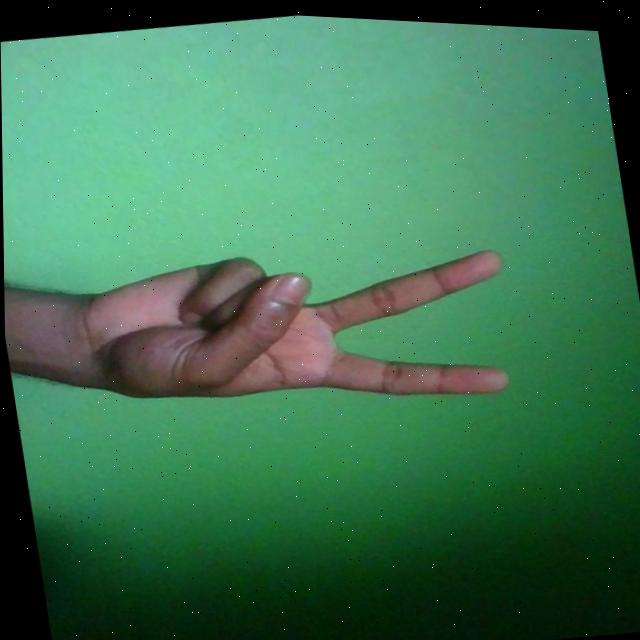Peace: (58, 210, 524, 446)
